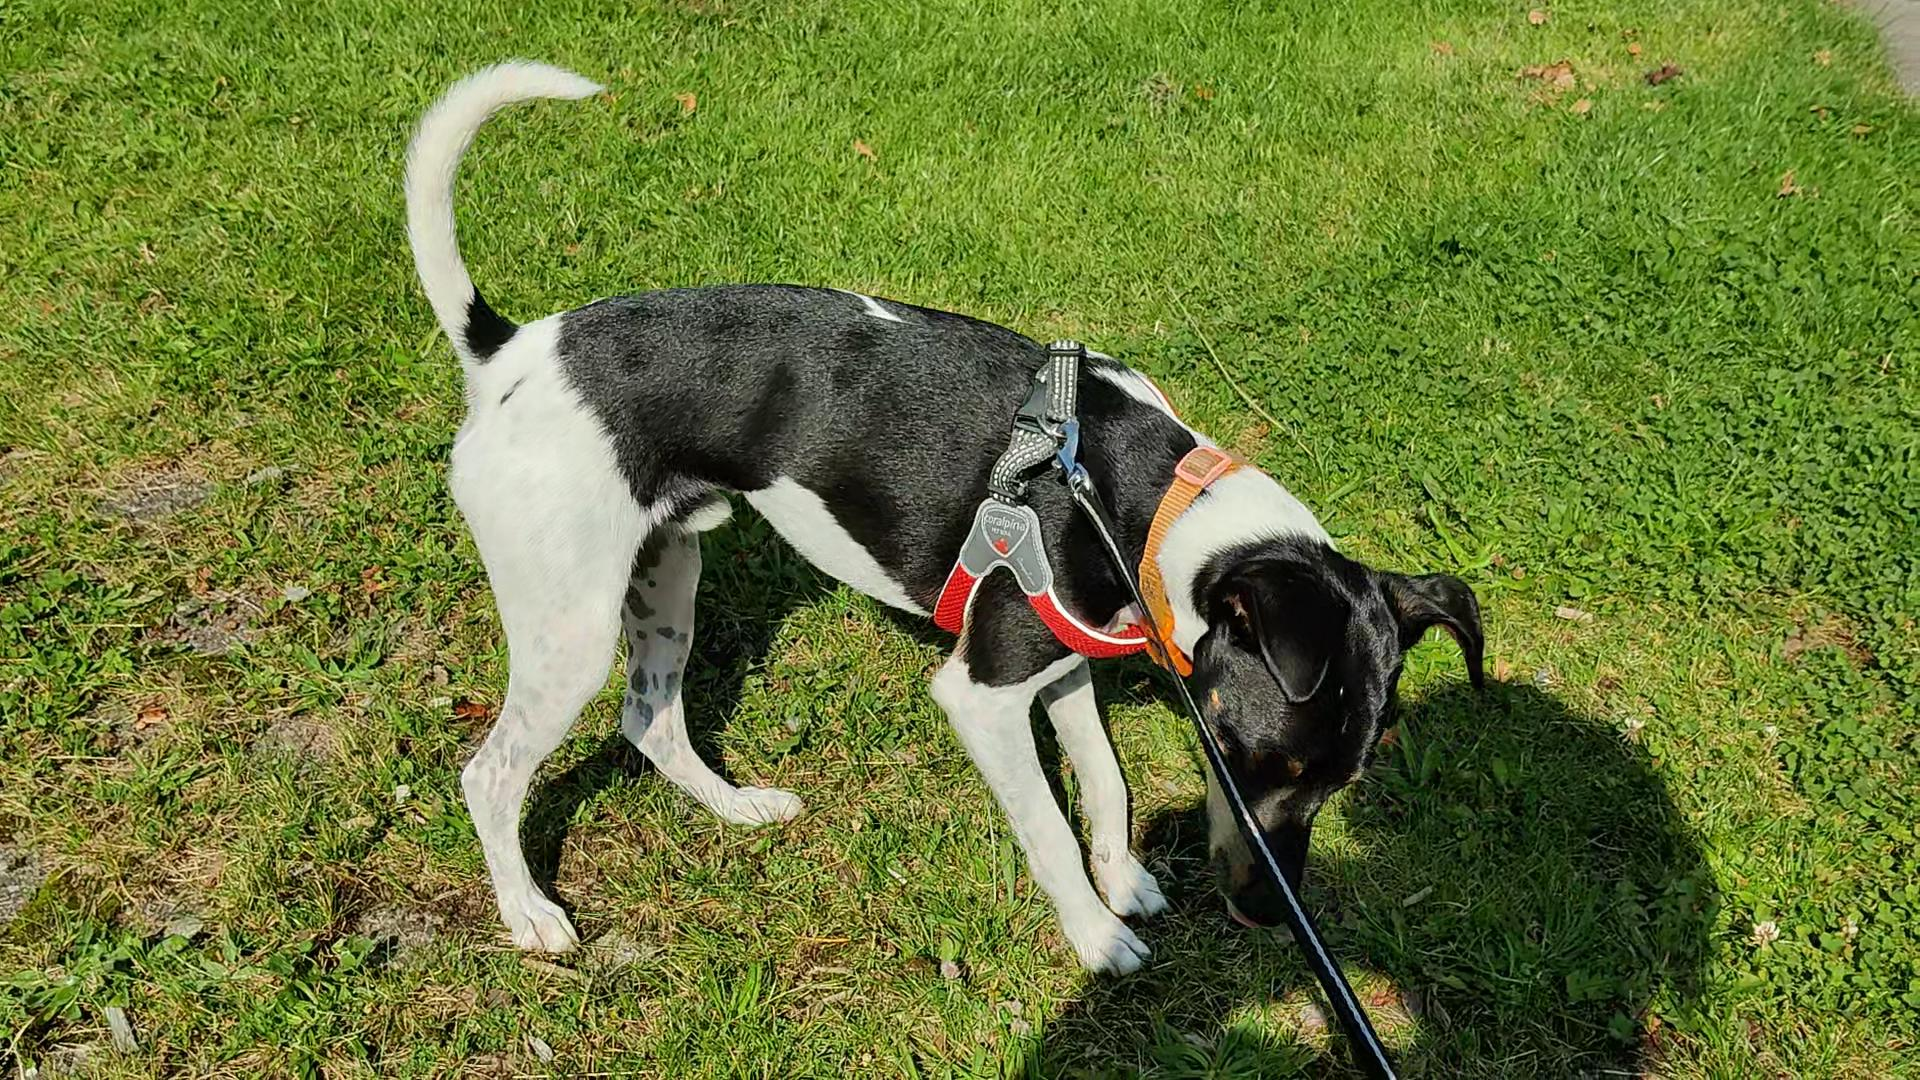Dog: (353, 41, 1490, 1004)
